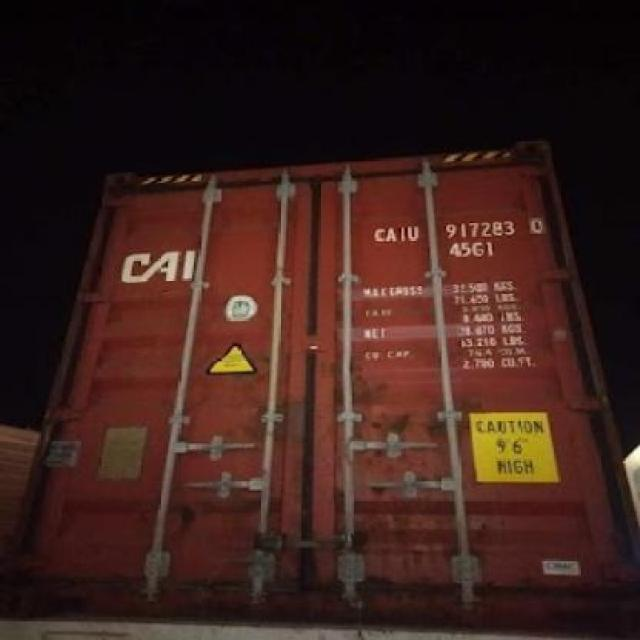ISO: (449, 239, 496, 258)
container_number: (374, 218, 538, 240)
